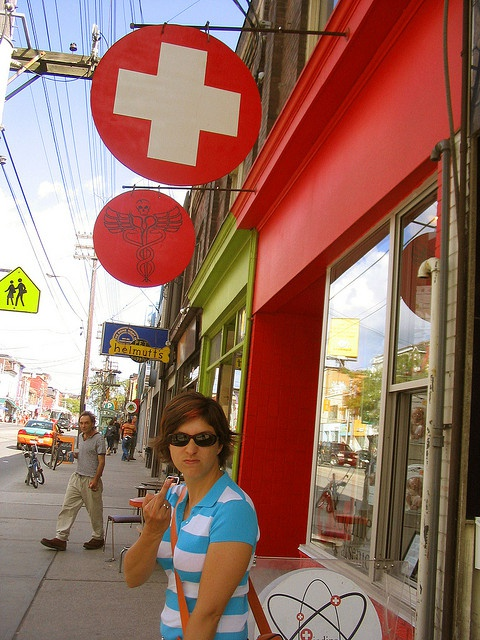non-vehicle: (22, 441, 44, 488), (42, 434, 65, 469)
